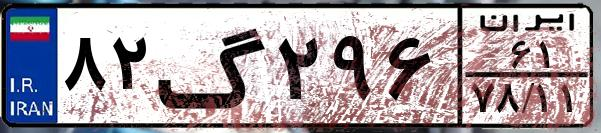1: (560, 70, 590, 125), (537, 27, 568, 80), (535, 70, 560, 125)
2: (270, 28, 330, 110), (110, 28, 156, 98)
6: (385, 28, 445, 110), (508, 27, 537, 80)
7: (470, 70, 495, 125)
8: (57, 26, 110, 100), (495, 70, 520, 125)
9: (330, 28, 385, 110)
گ: (156, 12, 270, 120)
